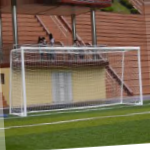goals: (7, 44, 146, 117)
